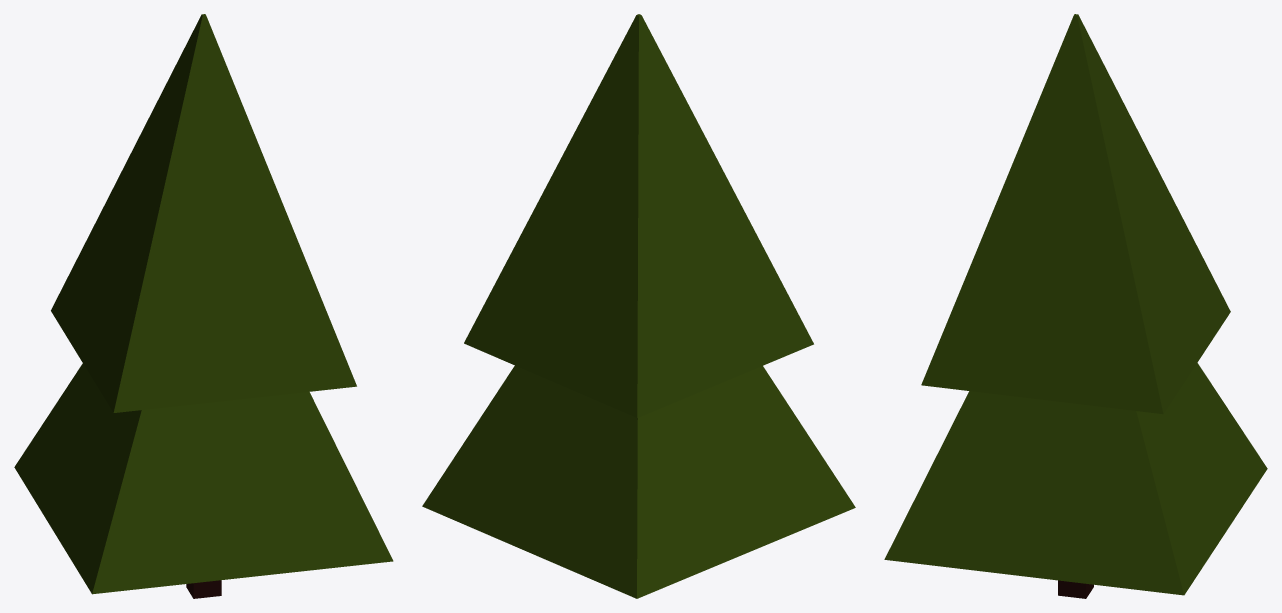
The model's file is tree2.obj.
3 renders of one model, left to right at view 1: azimuth 30°, elevation 25°; view 2: azimuth 150°, elevation 25°; view 3: azimuth 270°, elevation 25°, orthographic.
Visible parts, largest first — view 1: Cube.001_Cube.009, Cube.001_Cube.000; view 2: Cube.001_Cube.009; view 3: Cube.001_Cube.009, Cube.001_Cube.000.
Boxes of the visible parts, x1,y1,x2,y2 form: Cube.001_Cube.009: [14, 14, 393, 594]; Cube.001_Cube.000: [186, 580, 221, 598]; Cube.001_Cube.009: [422, 14, 855, 598]; Cube.001_Cube.009: [884, 14, 1267, 595]; Cube.001_Cube.000: [1058, 580, 1093, 598].
Size of the model in its own units: 2.72 by 4.52 by 2.72.
